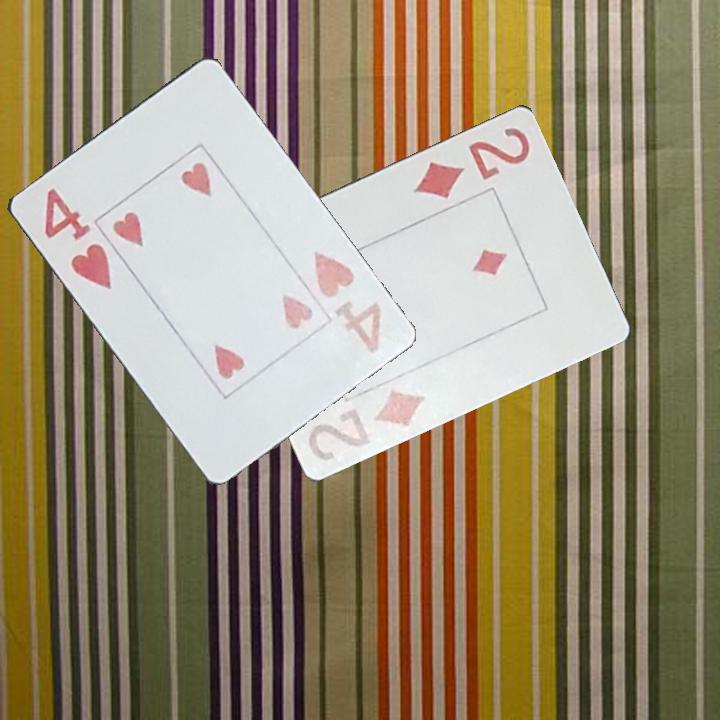2d: (304, 382, 429, 468), (410, 121, 533, 201)
4h: (37, 184, 114, 293), (309, 247, 384, 356)
